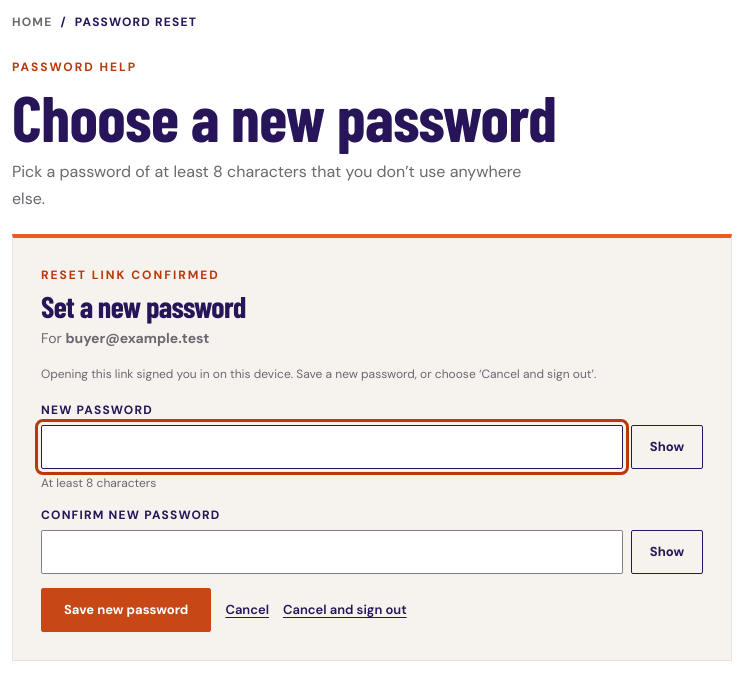
Test: ResetPasswordPage, opened by a reset link (AW-349) › has no current-password field, saves straight away and still signs out the other devices
The image size is (749, 678).
Expected: the text "RESET LINK CONFIRMED" is shown, [41,267,220,283]
Type "new-pass-123" into the password field labelled "New password" at (332, 447), box [41,425,623,469]
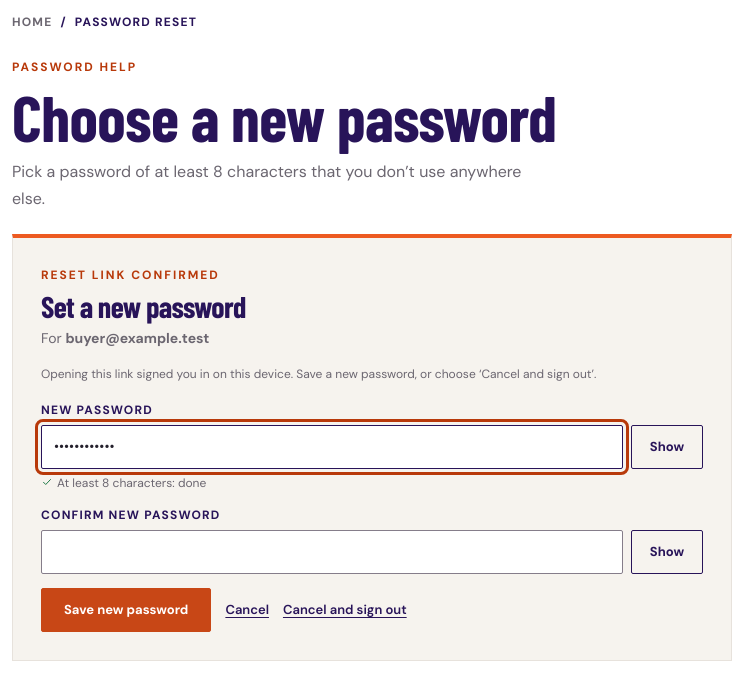
Type "new-pass-123" into the password field labelled "Confirm new password" at (332, 552), box [41,530,623,574]
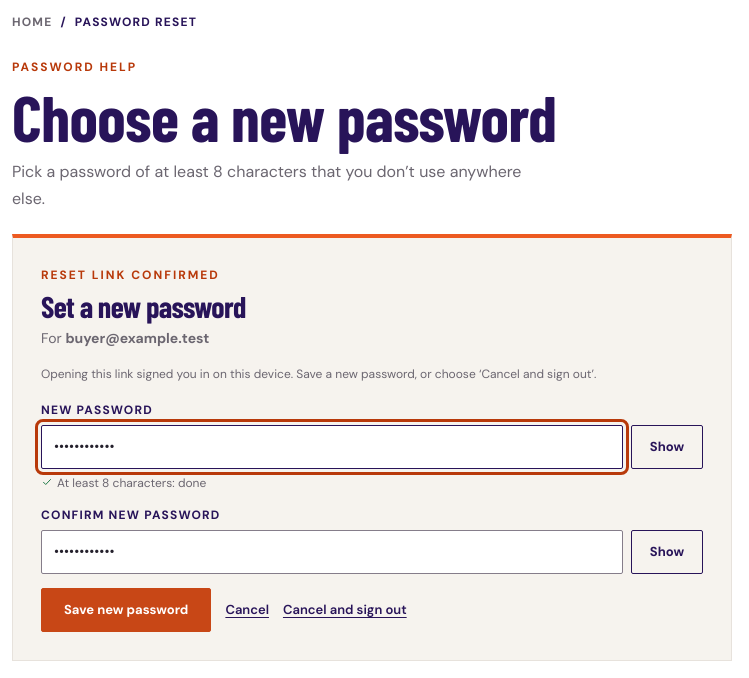
Click the button "Save new password" at (126, 610), box [41,588,211,632]
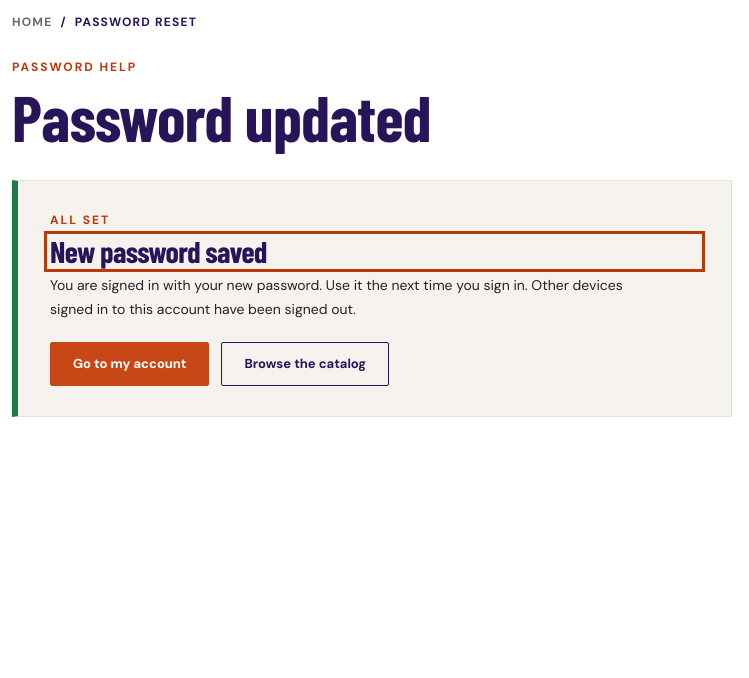
Now the heading "Password updated" is shown, box [12,78,431,155]
Now the text "Other devices signed in to this account have been signed out." is shown, box [50,276,623,318]
